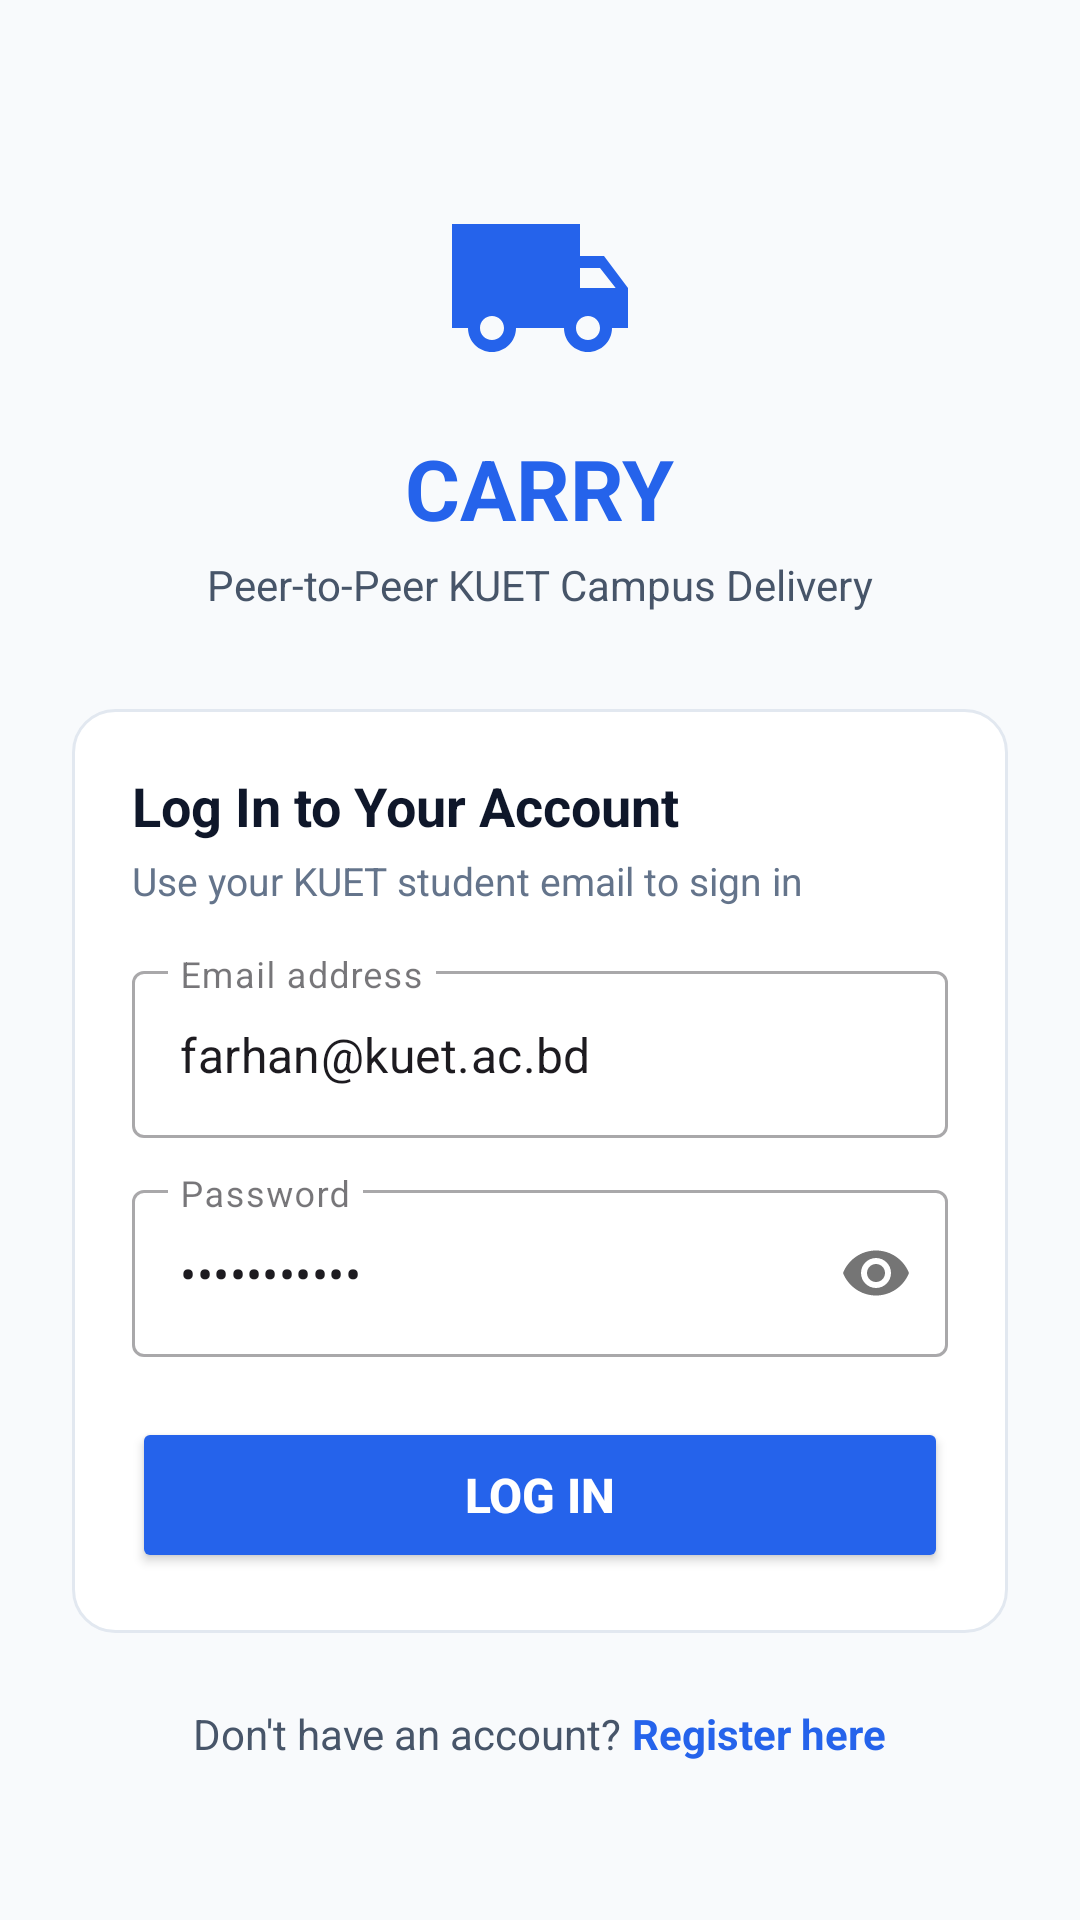

Where to tap for icons on this 1080px x 1920px app screen, as (x=x, y=y):
delivery: (x=540, y=288)
